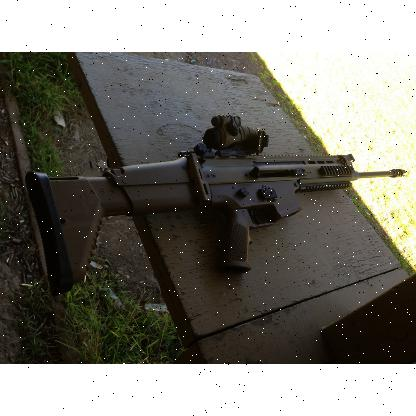gun: (25, 114, 406, 296)
